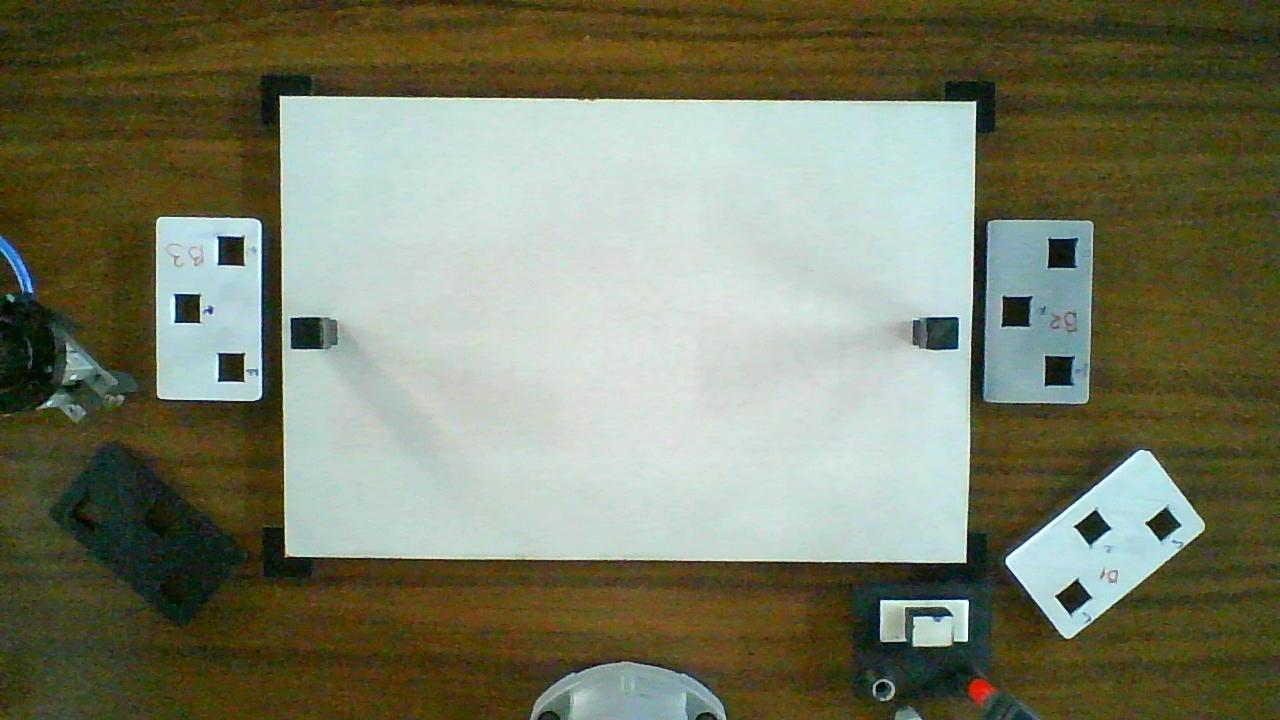peca_preta: (928, 317, 959, 349), (291, 318, 320, 348)
